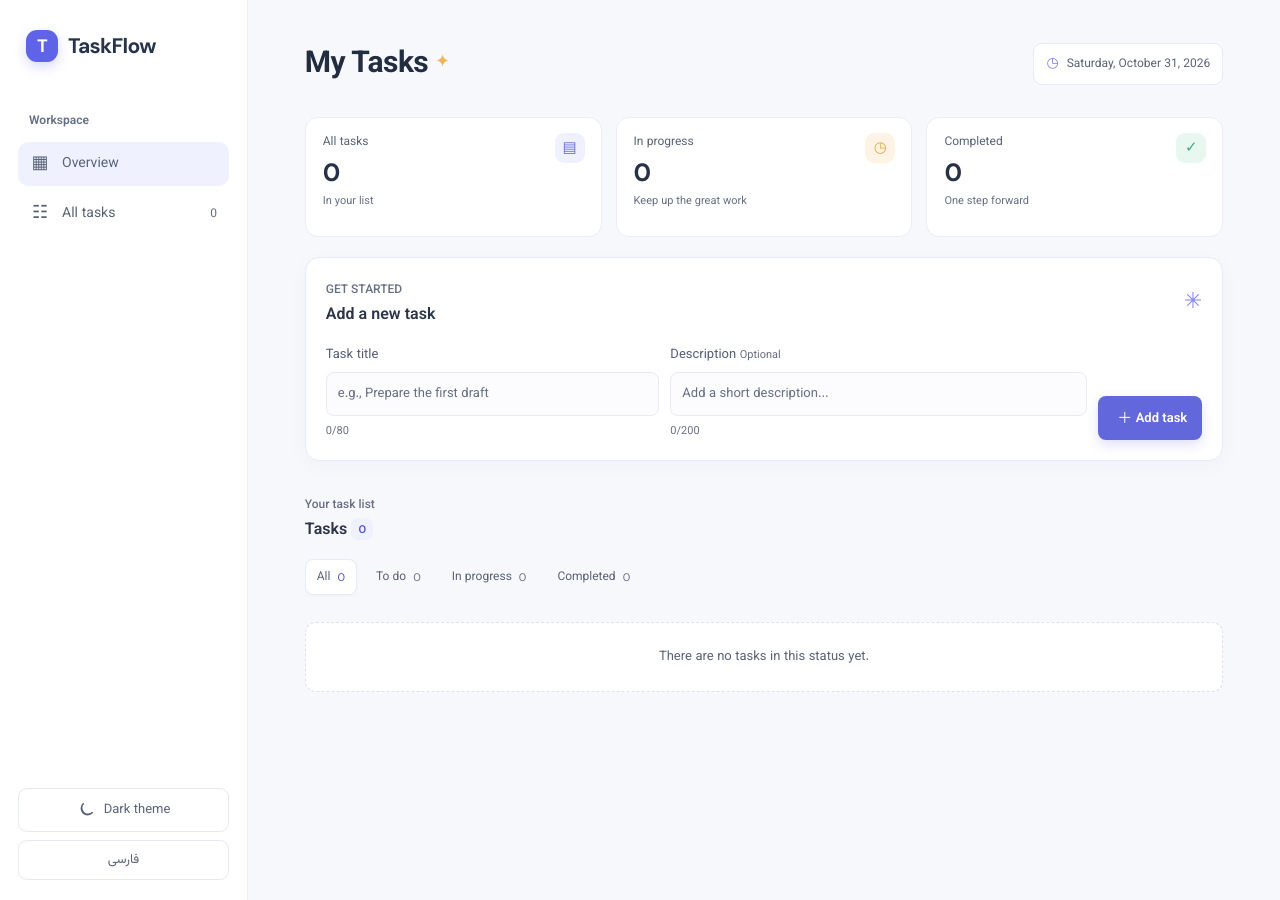
Test: TaskFlow dashboard › defaults to English and allows switching to Persian
Step 1. Click the button with aria-label "Switch to Persian" → point(124, 860), box [18,840,229,880]
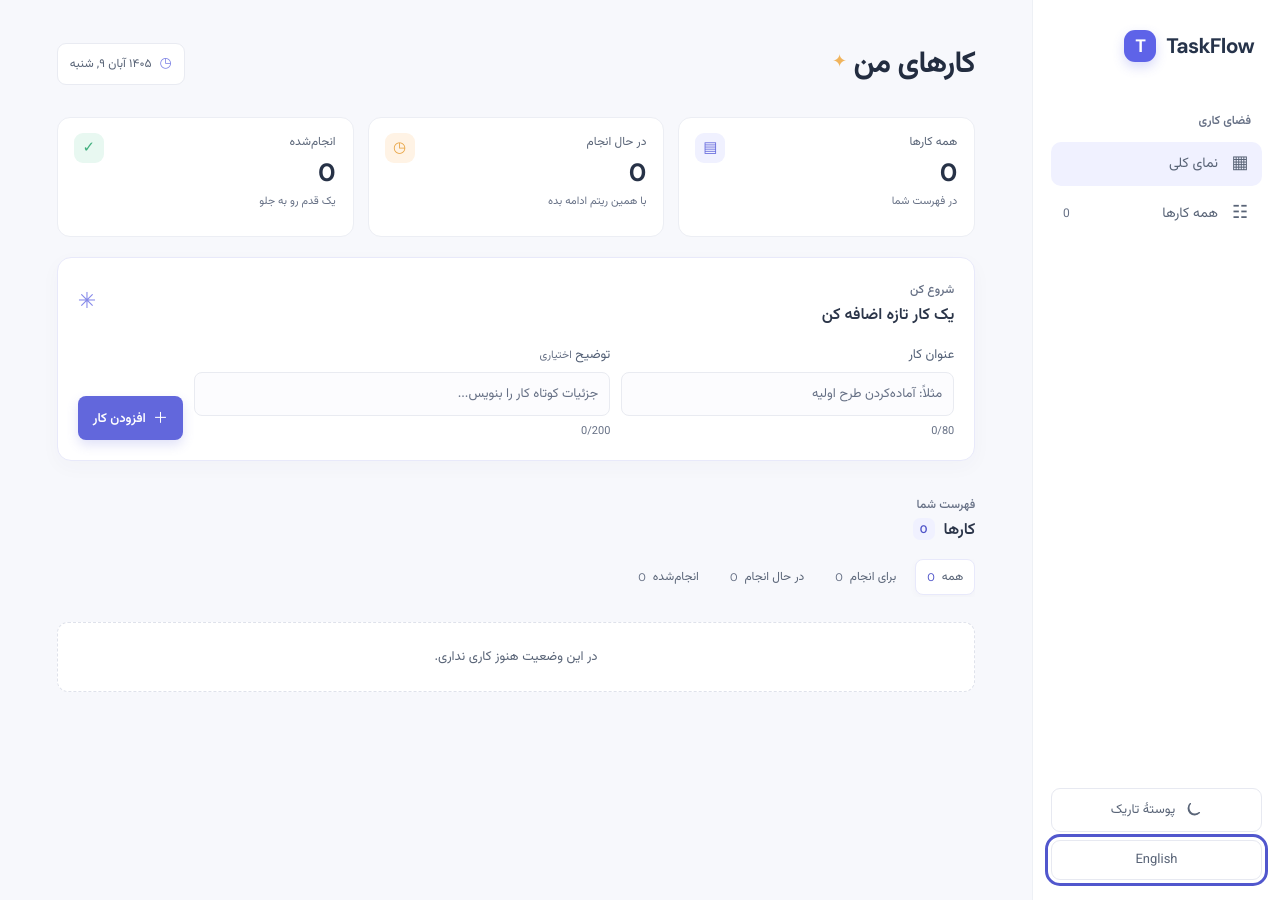
Check: the heading "کارهای من ✦" is shown, box [832,42,975,87]
